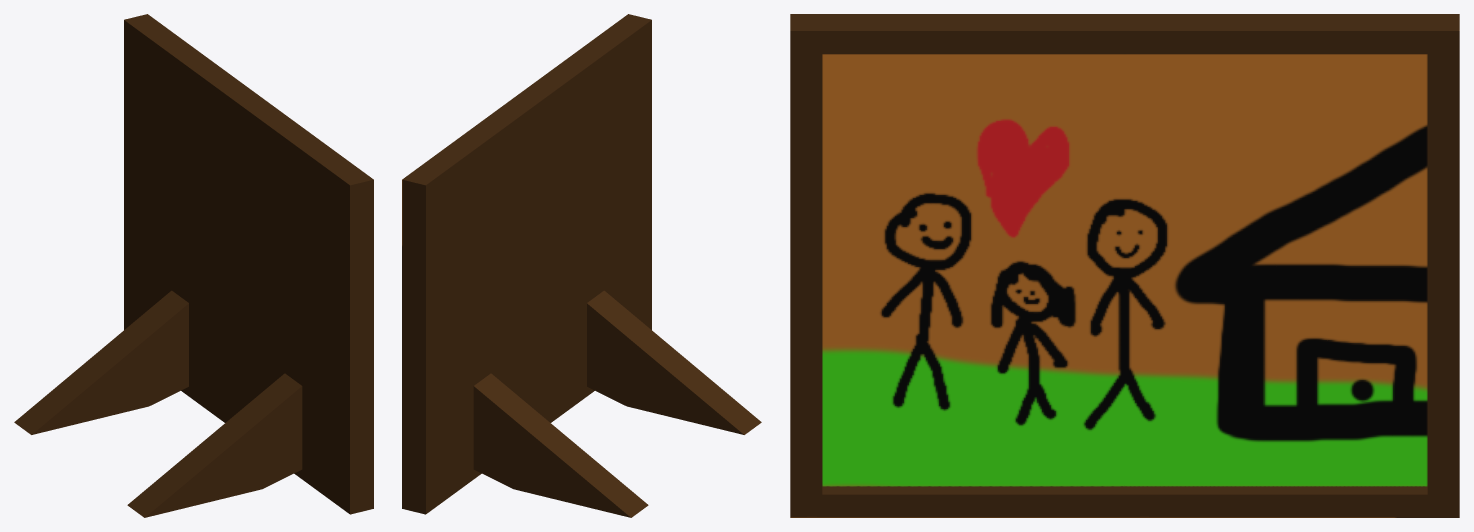
File: photo.fbx
3 renders of one model, left to right at view 1: azimuth 30°, elevation 25°; view 2: azimuth 150°, elevation 25°; view 3: azimuth 270°, elevation 25°, orthographic. The views are drawn at different scales.
Parts seen in each view (by area): view 1: photo_bake; view 2: photo_bake; view 3: photo_bake.
Part boxes in pixels (x1,y1,x2,y2): photo_bake: (14, 14, 373, 517); photo_bake: (402, 14, 761, 517); photo_bake: (790, 14, 1459, 517).
Bounding box in the file's own units: 136 × 235 × 293.
1 material, 1 textured.
